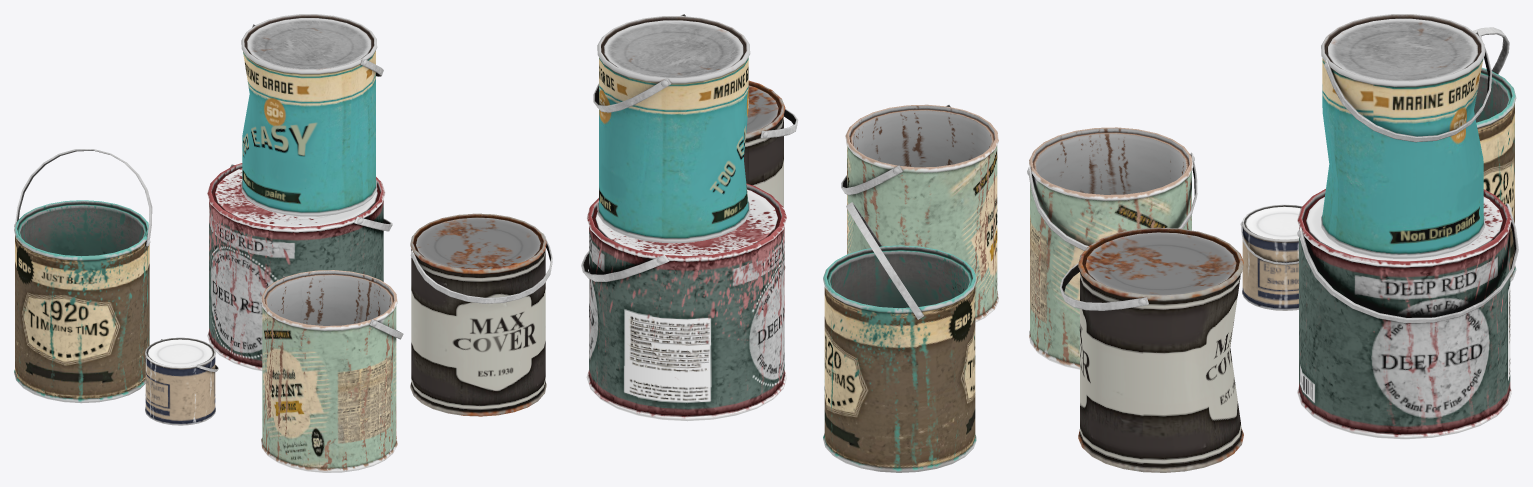
3 renders of one model, left to right at view 1: azimuth 30°, elevation 25°; view 2: azimuth 150°, elevation 25°; view 3: azimuth 270°, elevation 25°, orthographic. The views are drawn at different scales.
Parts seen in each view (by area): view 1: Paint3, Paint4, Paint5, Paint6, Paint2, Paint1; view 2: Paint2, Paint3, Paint6, Paint5, Paint4; view 3: Paint2, Paint4, Paint6, Paint5, Paint1, Paint3.
Part boxes in pixels (box(x1,y1,x2,y2)): Paint3: box(14, 149, 152, 403); Paint4: box(410, 213, 552, 416); Paint5: box(261, 270, 403, 472); Paint6: box(241, 14, 383, 216); Paint2: box(207, 163, 392, 371); Paint1: box(145, 337, 218, 425); Paint2: box(581, 183, 786, 421); Paint3: box(823, 202, 976, 472); Paint6: box(593, 14, 750, 242); Paint5: box(841, 104, 998, 322); Paint4: box(744, 80, 798, 269); Paint2: box(1297, 189, 1518, 439); Paint4: box(1060, 227, 1243, 472); Paint6: box(1321, 14, 1492, 258); Paint5: box(1027, 127, 1197, 369); Paint1: box(1240, 204, 1301, 310); Paint3: box(1473, 27, 1516, 281).
Bounding box in the file's own units: 0.8398 × 0.5874 × 0.7357.
Materials: 1 (1 with a texture image).
